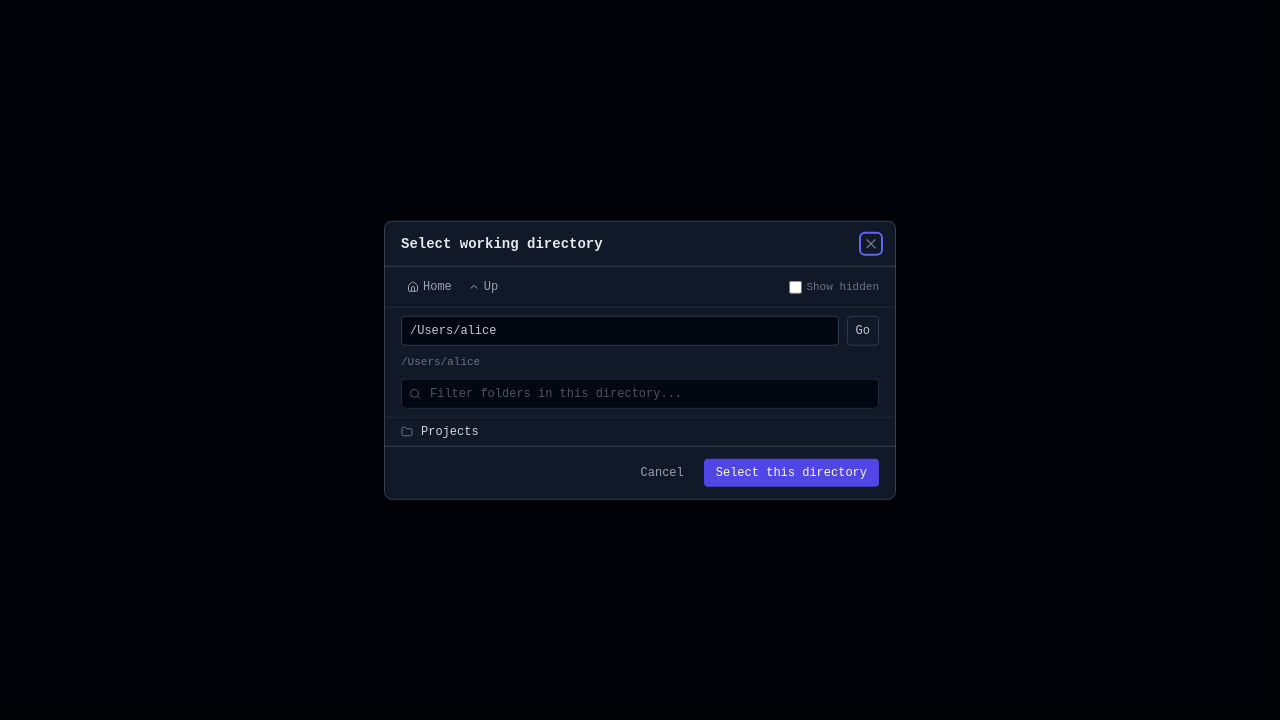
FolderPicker — search and jump › jumps directly to an absolute folder path
Expected: the text "/Users/alice" is shown, [401,356,480,368]
Step 1. Replace the text in the field named "folder path" with "/Users/alice/Projects/mission-control" → (620, 331), box [401,316,839,346]
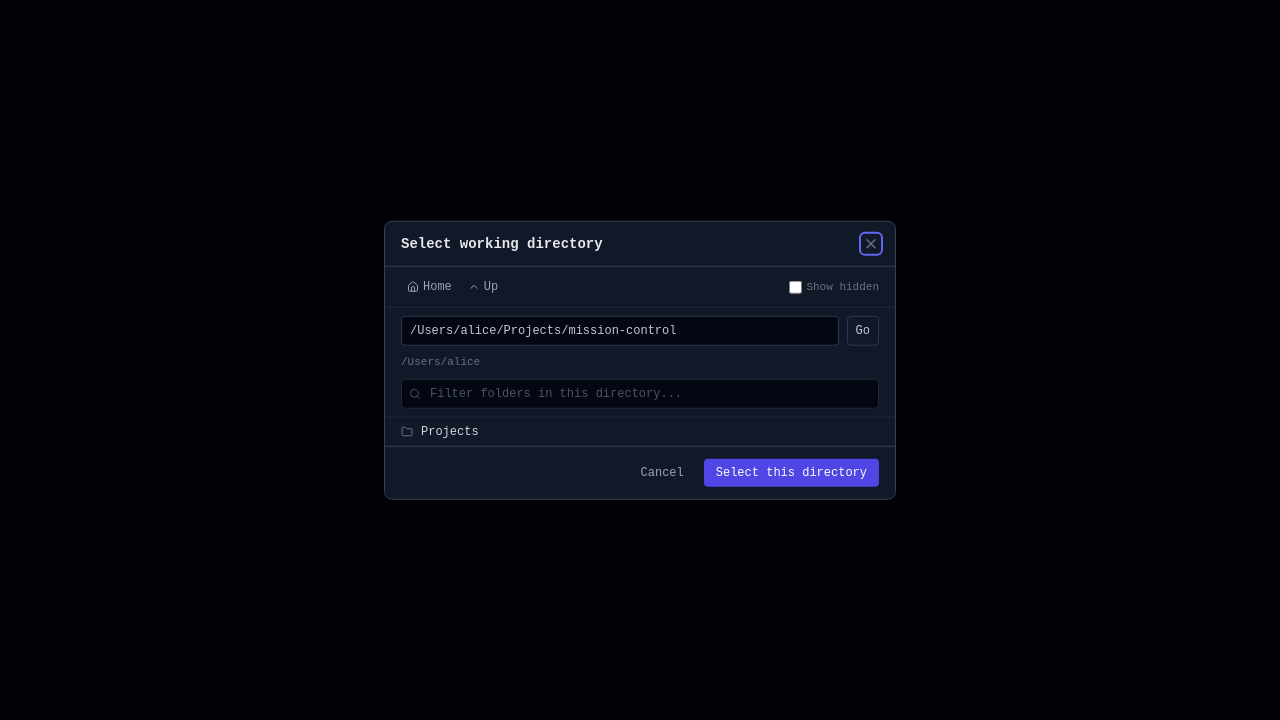
Step 2. Click the button "Go" → (863, 331), box [847,316,879,346]
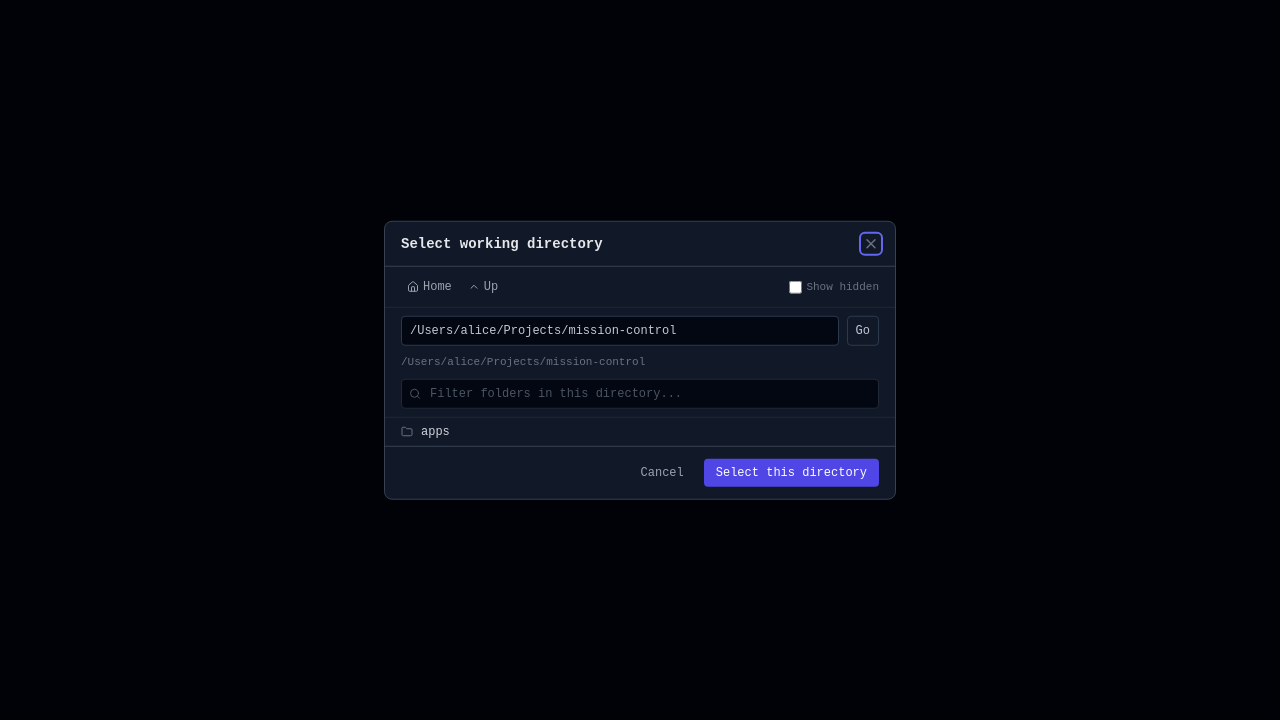
Expected: the text "/Users/alice/Projects/mission-control" is shown, [401,356,645,368]
Expected: the text "apps" is shown, [421,423,450,439]
